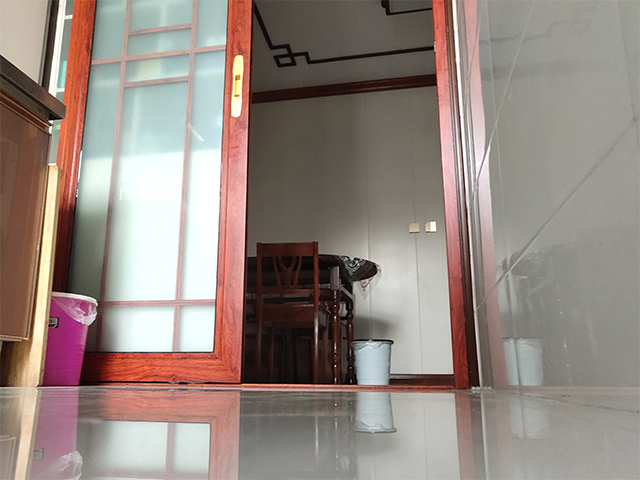cabinet: (1, 51, 68, 384)
stool: (253, 237, 328, 385)
table: (242, 250, 378, 385)
trashcan: (42, 289, 101, 388), (349, 337, 396, 386)
